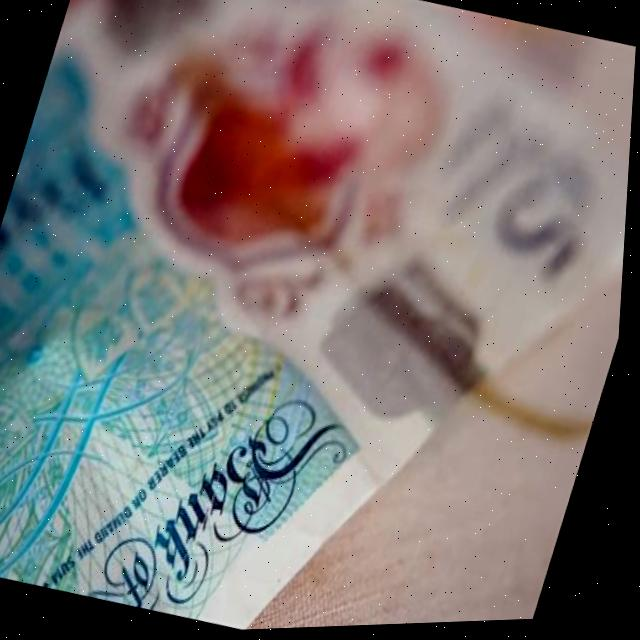banknote: (0, 0, 640, 640), (480, 160, 611, 297)
